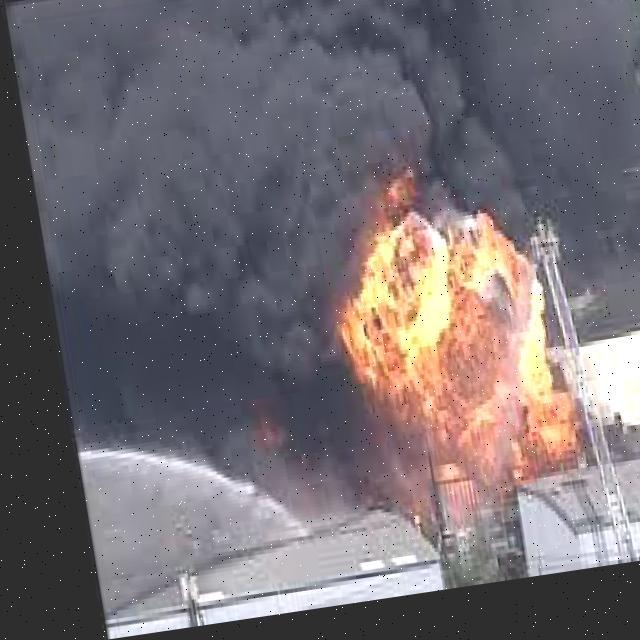Fire: (311, 170, 575, 504)
